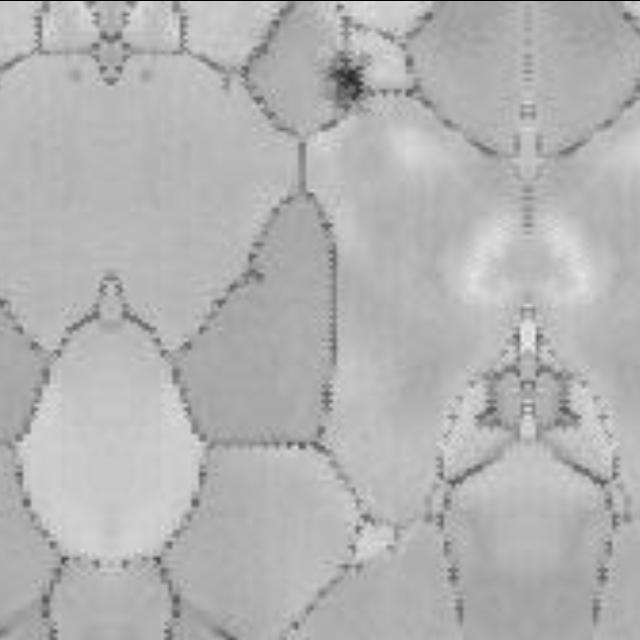good_void: (321, 50, 374, 114)
